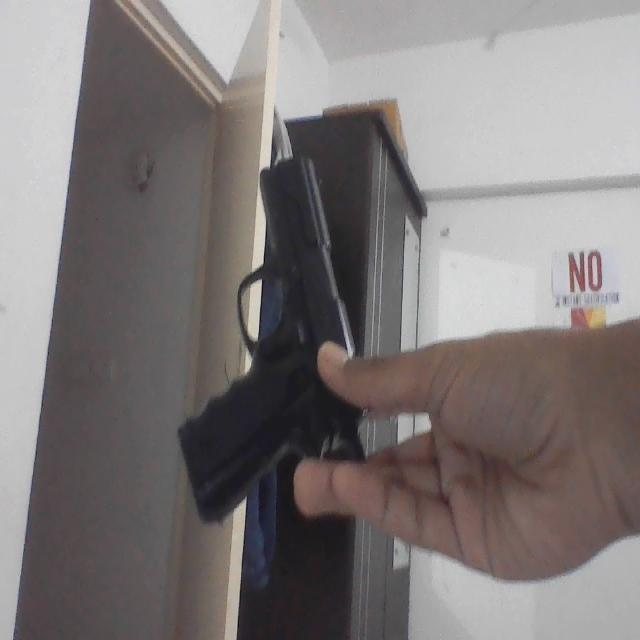handgun: (177, 155, 371, 531)
